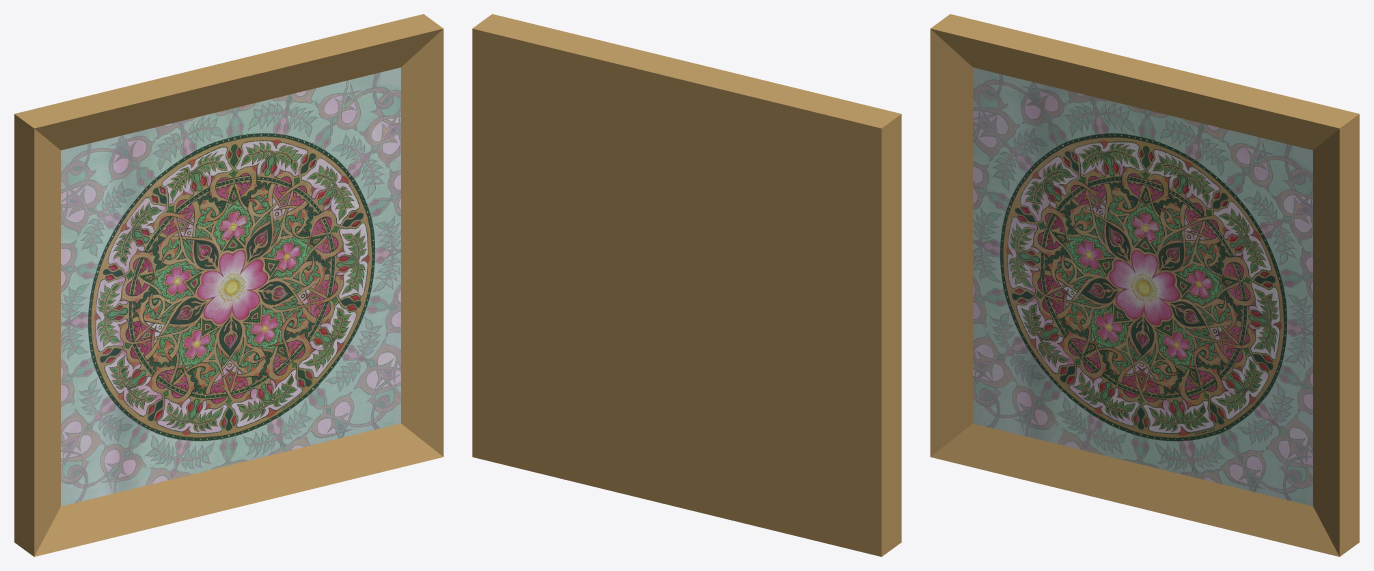
File: wild-rose-wild-rose-sussex-pink-a3-natural-oak-v2.glb
3 views of the same model, side by side, from view 1: azimuth 30°, elevation 25°; view 2: azimuth 150°, elevation 25°; view 3: azimuth 330°, elevation 25° (orthographic).
Parts seen in each view (by area): view 1: FramedPrint; view 2: FramedPrint; view 3: FramedPrint.
Part boxes in pixels (left/top/right/bottom): FramedPrint: left=14, top=14, right=443, bottom=556; FramedPrint: left=472, top=14, right=901, bottom=556; FramedPrint: left=930, top=14, right=1359, bottom=556.
Bounding box in the file's own units: 0.355 × 0.355 × 0.03.
Materials: 2 (1 with a texture image).
